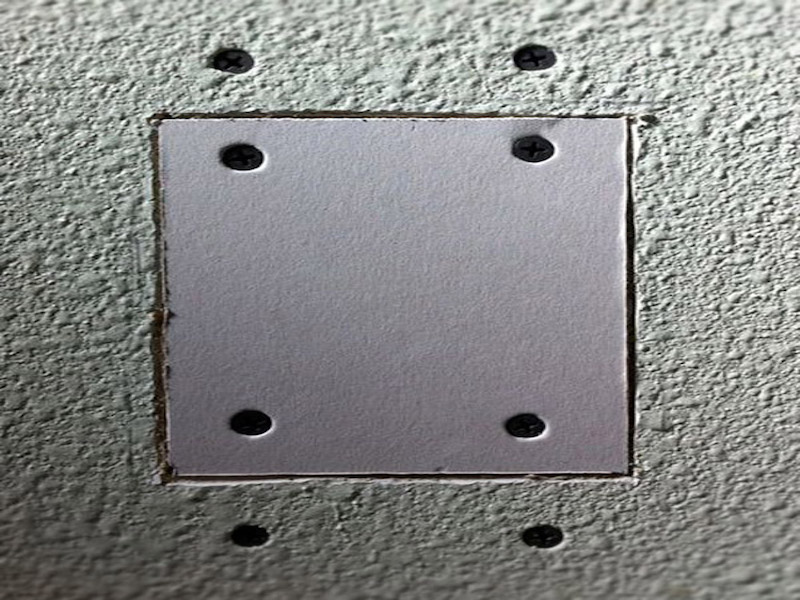screw: (509, 132, 557, 167), (220, 141, 268, 175), (510, 42, 559, 75), (501, 411, 551, 442), (226, 408, 275, 439), (519, 522, 566, 552), (211, 48, 255, 76), (230, 521, 272, 550)
